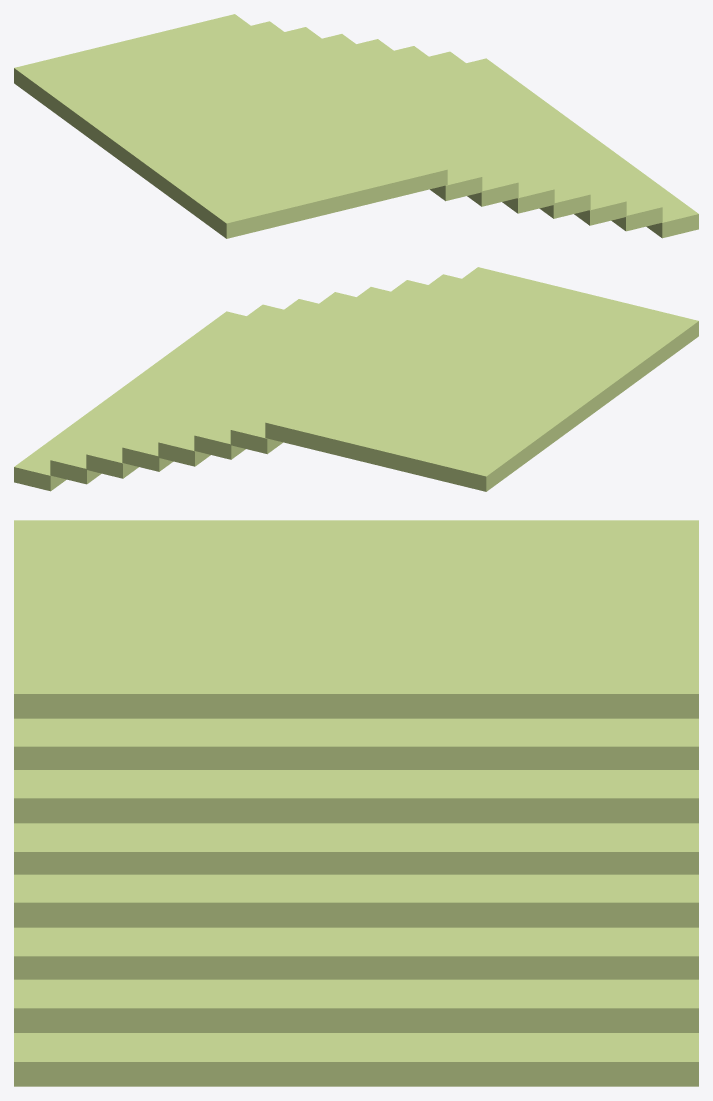
The model's file is stair_version_2.fbx.
3 renders of one model, top to bottom at view 1: azimuth 30°, elevation 25°; view 2: azimuth 150°, elevation 25°; view 3: azimuth 270°, elevation 25°, orthographic. The views are drawn at different scales.
Visible parts, largest first — view 1: Cube.007, Cube.003, Cube.005, Cube.001, Cube, Cube.004, Cube.002, Cube.006; view 2: Cube.007, Cube.003, Cube.005, Cube.001, Cube, Cube.004, Cube.002, Cube.006; view 3: Cube.007, Cube, Cube.001, Cube.003, Cube.005, Cube.002, Cube.004, Cube.006.
Boxes of the visible parts, x1,y1,x2,y2 form: Cube.007: [14, 14, 447, 238]; Cube.003: [356, 39, 590, 218]; Cube.005: [285, 27, 518, 206]; Cube.001: [429, 51, 662, 231]; Cube: [466, 58, 698, 238]; Cube.004: [322, 34, 554, 213]; Cube.002: [394, 46, 626, 225]; Cube.006: [251, 21, 482, 201]; Cube.007: [265, 267, 698, 491]; Cube.003: [122, 292, 356, 471]; Cube.005: [194, 280, 427, 459]; Cube.001: [50, 304, 283, 484]; Cube: [14, 311, 246, 491]; Cube.004: [158, 287, 390, 466]; Cube.002: [86, 299, 318, 478]; Cube.006: [230, 274, 461, 454]; Cube.007: [14, 520, 698, 718]; Cube: [14, 1033, 698, 1086]; Cube.001: [14, 979, 698, 1032]; Cube.003: [14, 874, 698, 927]; Cube.005: [14, 770, 698, 823]; Cube.002: [14, 927, 698, 979]; Cube.004: [14, 823, 698, 874]; Cube.006: [14, 718, 698, 769].
Bounding box in the file's own units: 641 × 157 × 500.
